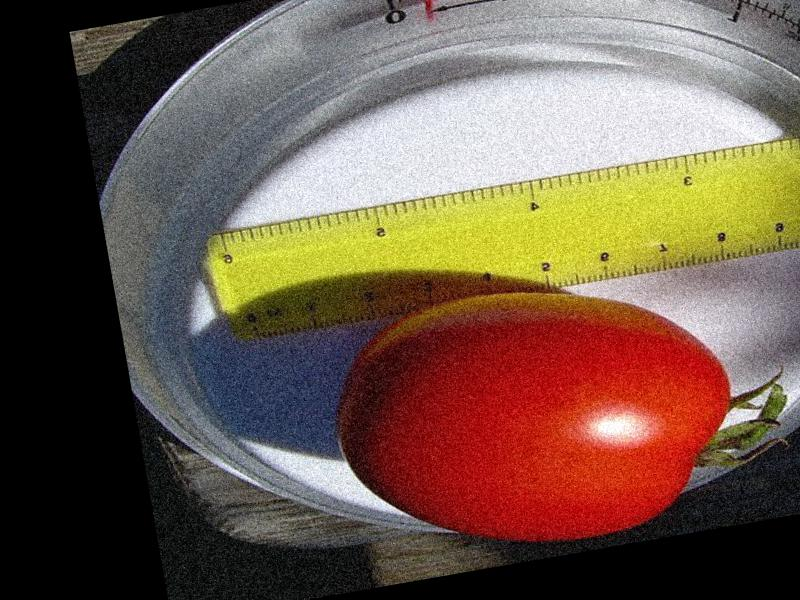Tomato: (320, 249, 753, 578)
